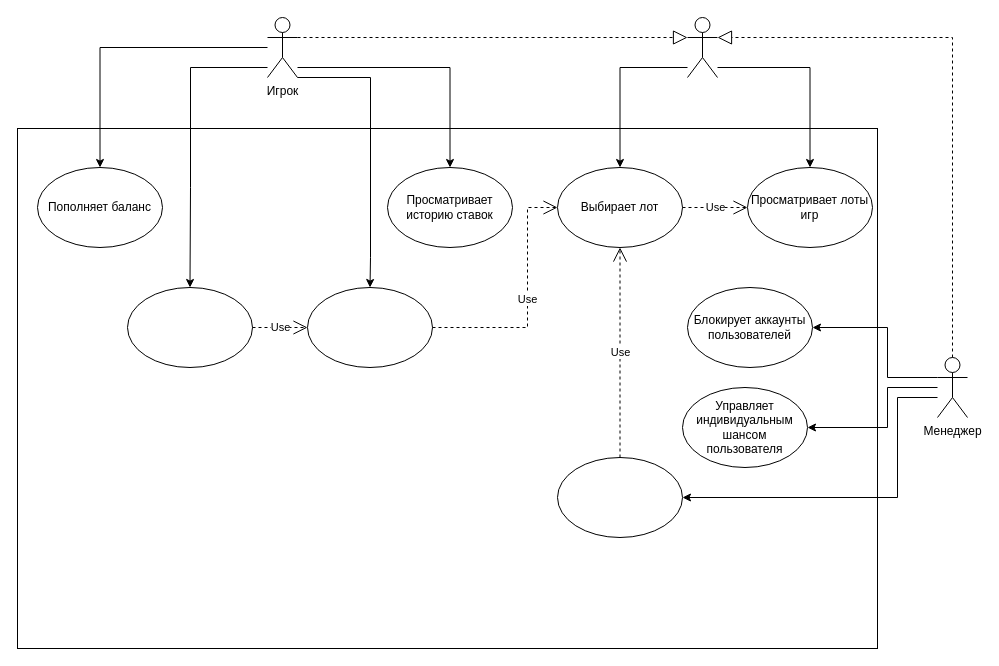
Some shapes in this 999 by 666 pixel diagram are drawn without their labels. Each missing label, with the box of its shape:
Выбирает исход: (306, 286, 432, 368)
Делает ставку в лоте: (126, 286, 252, 368)
Корректирует коэффициенты исходов: (556, 456, 682, 538)
Пользователь: (686, 16, 718, 78)
